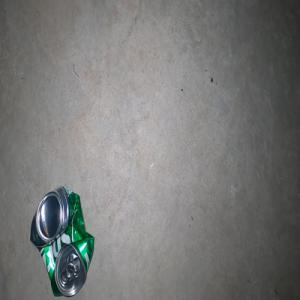SodaCan: (29, 185, 94, 297)
